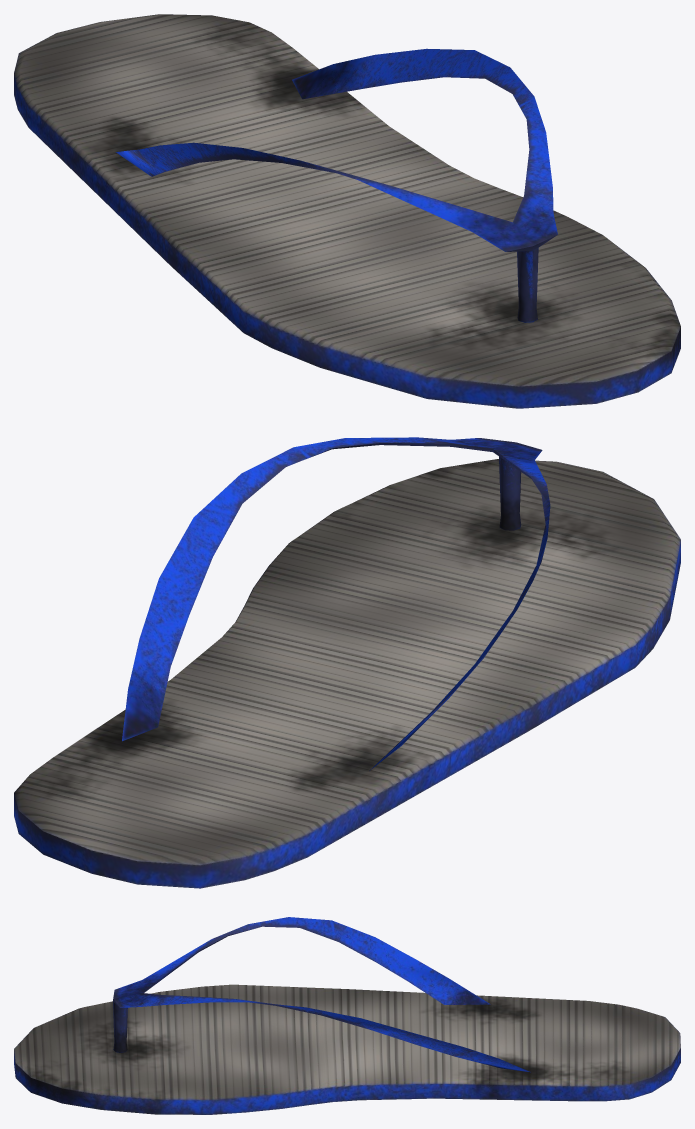
File: Shoes_003_Slipper_Left.fbx
The picture shows the model from 3 angles, top to bottom: view 1: azimuth 30°, elevation 25°; view 2: azimuth 150°, elevation 25°; view 3: azimuth 270°, elevation 25°; orthographic projection. The views are drawn at different scales.
Parts seen in each view (by area): view 1: Slipper_Left; view 2: Slipper_Left; view 3: Slipper_Left.
Part boxes in pixels (left/top/right/bottom): Slipper_Left: left=14, top=14, right=680, bottom=408; Slipper_Left: left=14, top=437, right=680, bottom=888; Slipper_Left: left=14, top=917, right=680, bottom=1114.
Bounding box in the file's own units: 12.11 × 4.95 × 29.8.
Materials: 1 (1 with a texture image).
